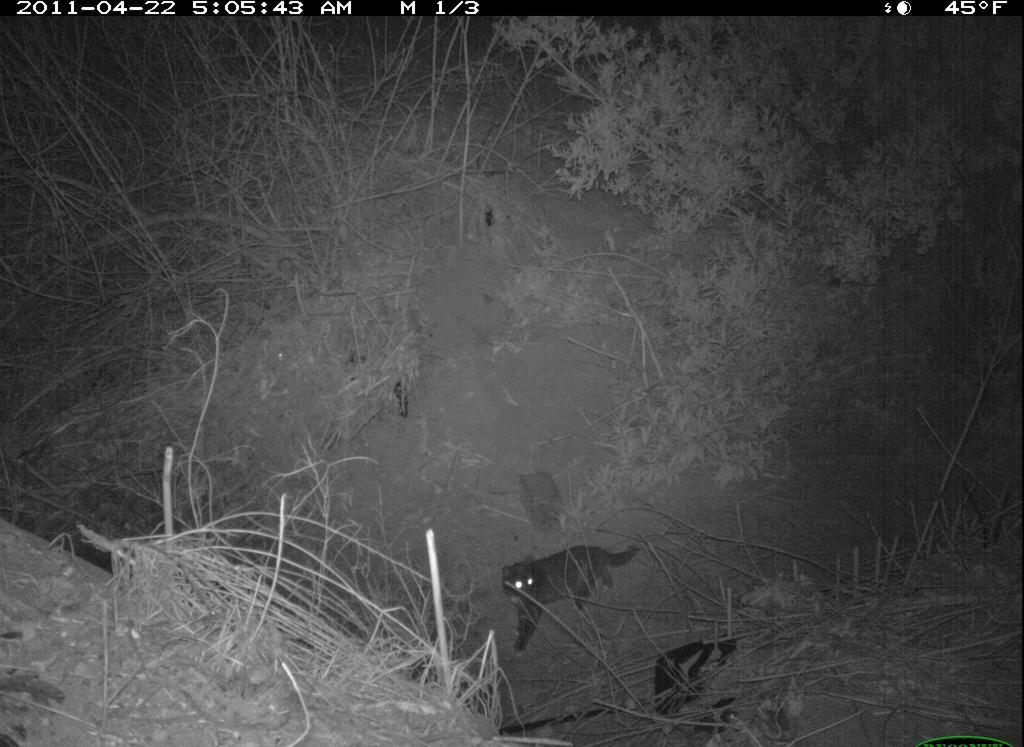cat: (486, 536, 653, 655)
